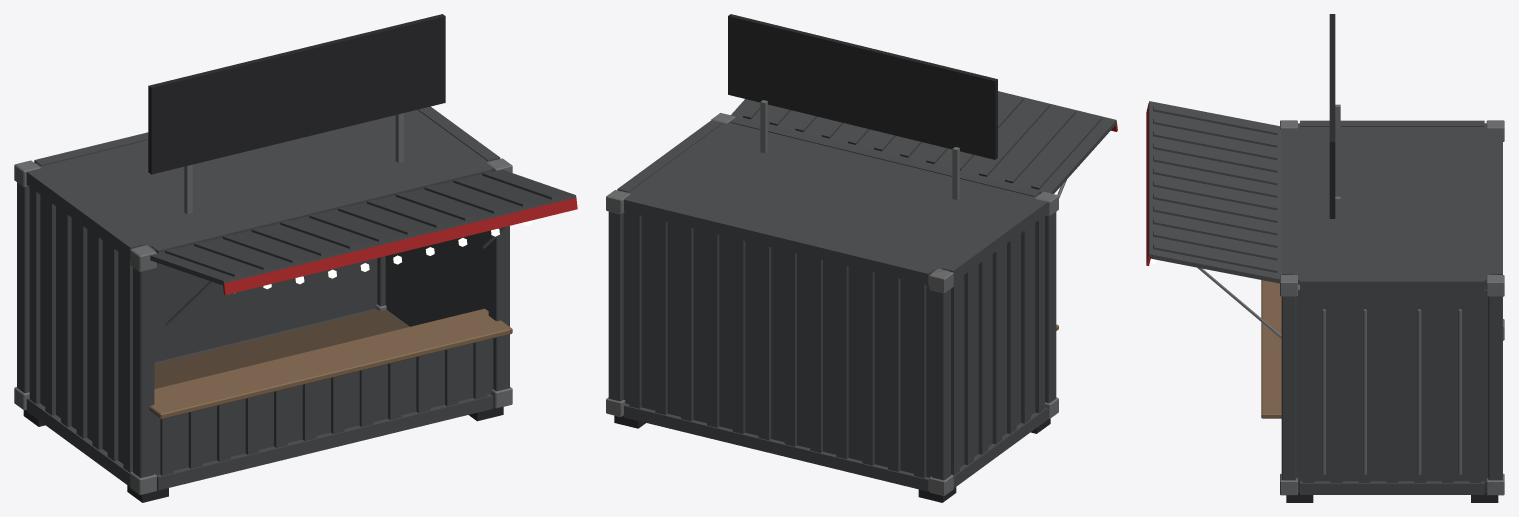
The model's file is booth.glb.
3 views of the same model, side by side, from view 1: azimuth 30°, elevation 25°; view 2: azimuth 150°, elevation 25°; view 3: azimuth 270°, elevation 25° (orthographic). The views are drawn at different scales.
Visible parts, largest first — view 1: booth_container, booth_sign, booth_awning, booth_bar; view 2: booth_container, booth_sign, booth_awning; view 3: booth_container, booth_awning, booth_bar, booth_sign.
Boxes of the visible parts, bbox=[...] form: booth_container: bbox=[14, 106, 512, 502]; booth_sign: bbox=[148, 14, 445, 214]; booth_awning: bbox=[150, 169, 577, 325]; booth_bar: bbox=[149, 308, 512, 419]; booth_container: bbox=[606, 113, 1058, 502]; booth_sign: bbox=[728, 14, 997, 199]; booth_awning: bbox=[731, 91, 1117, 198]; booth_container: bbox=[1280, 120, 1504, 502]; booth_awning: bbox=[1146, 101, 1281, 338]; booth_bar: bbox=[1261, 280, 1299, 418]; booth_sign: bbox=[1329, 14, 1340, 248].
Size of the model in its own units: 4.34 by 4.22 by 3.95.
